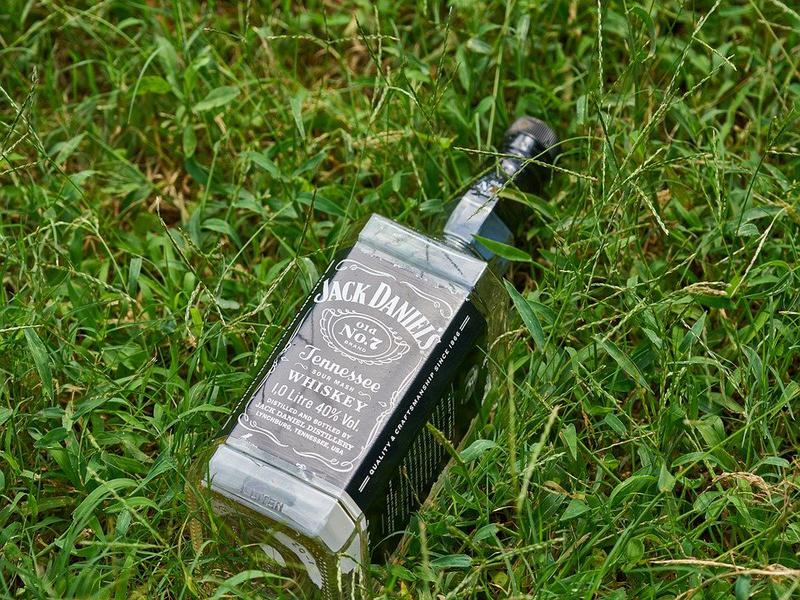bottle: (184, 109, 566, 588)
